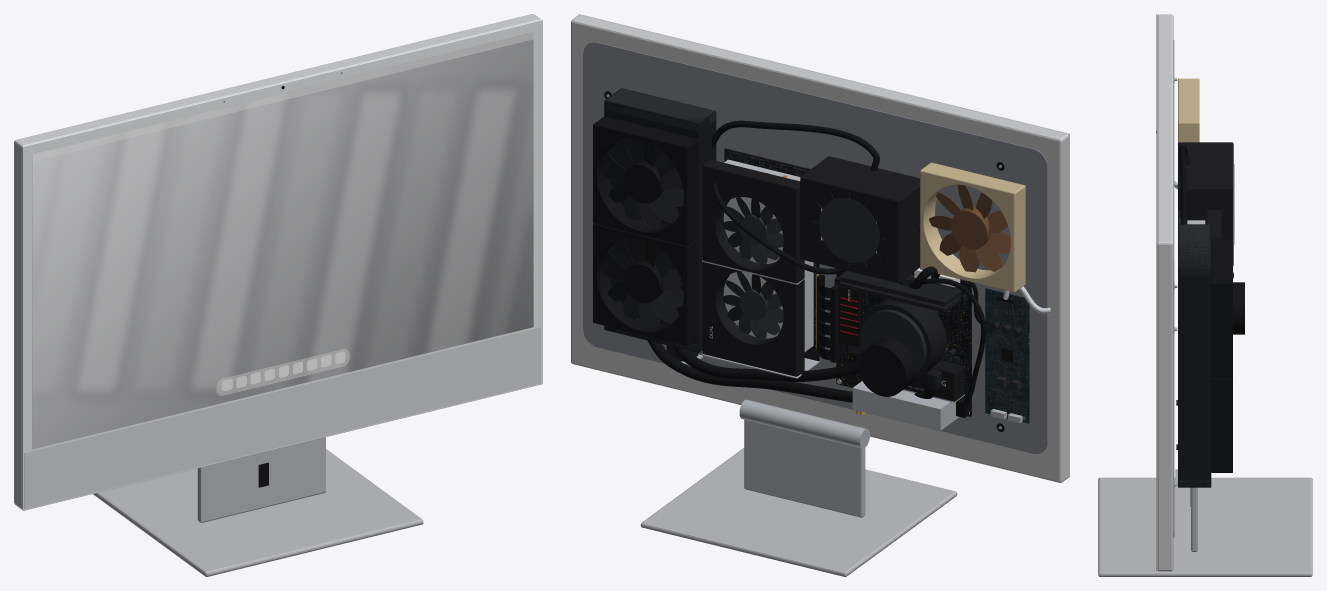
The model's file is imac_pc.v004__2026-11-05_e1880f0.glb.
The picture shows the model from 3 angles, left to right: view 1: azimuth 30°, elevation 25°; view 2: azimuth 150°, elevation 25°; view 3: azimuth 270°, elevation 25°; orthographic projection. The views are drawn at different scales.
Visible parts, largest first — view 1: display, chin_paint, stand_foot, front_glass, slab, stand_arm; view 2: tray_plate, slab, stand_foot, gpu_shroud_body, psu_body, stand_arm, fan_rad1_frame, fan_exhaust_frame, fan_rad0_frame, ctrl_pcb, rad_core, io_shield (+26 smaller); view 3: stand_foot, slab, rad_core, psu_body, fan_rad1_frame, fan_rad0_frame, rad_tank_b, fan_exhaust_frame, front_glass, tray_plate, pump_vrmfan_ring, cable_ac (+2 smaller).
Part boxes in pixels (<box>): display: <box>32,32,533,449</box>; chin_paint: <box>24,327,541,509</box>; stand_foot: <box>93,449,423,576</box>; front_glass: <box>22,19,542,510</box>; slab: <box>14,14,541,509</box>; stand_arm: <box>197,437,325,522</box>; tray_plate: <box>583,42,1047,453</box>; slab: <box>571,15,1069,482</box>; stand_foot: <box>640,448,957,576</box>; gpu_shroud_body: <box>702,159,804,376</box>; psu_body: <box>800,156,919,282</box>; stand_arm: <box>744,419,865,517</box>; fan_rad1_frame: <box>593,116,698,246</box>; fan_exhaust_frame: <box>920,162,1025,292</box>; fan_rad0_frame: <box>593,223,698,345</box>; ctrl_pcb: <box>985,288,1029,423</box>; rad_core: <box>604,88,716,352</box>; io_shield: <box>852,381,958,430</box>; stand_foot: <box>1098,477,1312,576</box>; slab: <box>1157,14,1173,571</box>; rad_core: <box>1178,224,1211,487</box>; psu_body: <box>1178,142,1233,265</box>; fan_rad1_frame: <box>1211,239,1232,377</box>; fan_rad0_frame: <box>1211,377,1232,472</box>; rad_tank_b: <box>1179,224,1209,276</box>; fan_exhaust_frame: <box>1178,78,1199,142</box>; front_glass: <box>1156,14,1157,571</box>; tray_plate: <box>1173,40,1174,537</box>; pump_vrmfan_ring: <box>1233,282,1244,334</box>; cable_ac: <box>1179,145,1189,224</box>.
Bounding box in the file's own units: 620 × 506 × 245.
57 materials, 4 textured.
